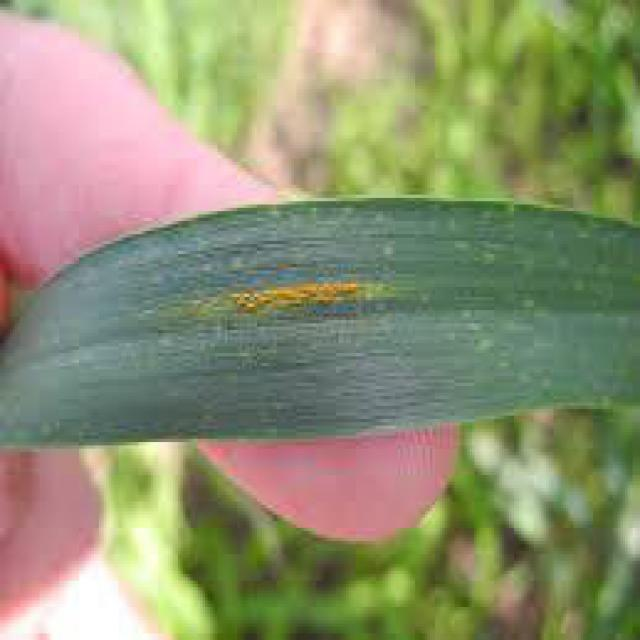wheat-yellowrust: (95, 261, 440, 352)
